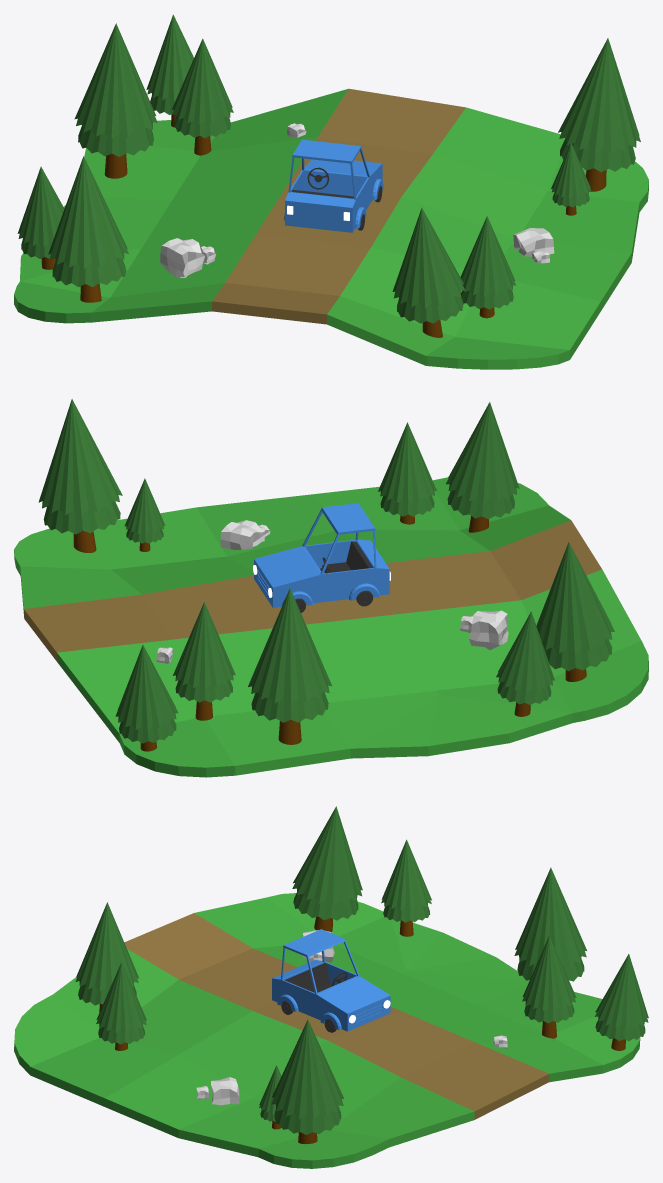
File: camino.gltf
3 views of the same model, one above another, from view 1: azimuth 30°, elevation 25°; view 2: azimuth 150°, elevation 25°; view 3: azimuth 270°, elevation 25° (orthographic). The views are drawn at different scales.
Parts seen in each view (by area): view 1: Plane, Circle.001, Circle.005, Coche, Circle.002, Circle.006, Circle, Circle.007, Circle.003, Circle.008, Circle.004, Cube.002 (+1 smaller); view 2: Plane, Coche, Circle.001, Circle.005, Circle.002, Circle.006, Circle, Circle.008, Circle.003, Circle.007, Circle.004, Cube.002 (+2 smaller); view 3: Plane, Coche, Circle.005, Circle.002, Circle.001, Circle.006, Circle, Circle.008, Circle.003, Circle.007, asiento, Cube (+1 smaller).
Boxes of the visible parts, bbox=[...] form: Plane: bbox=[14, 88, 648, 369]; Circle.001: bbox=[74, 23, 157, 178]; Circle.005: bbox=[558, 38, 640, 191]; Coche: bbox=[284, 139, 383, 232]; Circle.002: bbox=[48, 156, 128, 302]; Circle.006: bbox=[392, 207, 465, 337]; Circle: bbox=[172, 38, 233, 155]; Circle.007: bbox=[460, 216, 516, 318]; Circle.003: bbox=[17, 166, 64, 269]; Circle.008: bbox=[146, 14, 193, 127]; Circle.004: bbox=[551, 142, 591, 215]; Cube.002: bbox=[160, 238, 204, 277]; Plane: bbox=[14, 477, 648, 777]; Coche: bbox=[254, 503, 389, 607]; Circle.001: bbox=[248, 588, 331, 744]; Circle.005: bbox=[38, 399, 122, 552]; Circle.002: bbox=[536, 542, 614, 681]; Circle.006: bbox=[446, 402, 519, 532]; Circle: bbox=[173, 602, 235, 720]; Circle.008: bbox=[115, 645, 178, 751]; Circle.003: bbox=[496, 611, 554, 716]; Circle.007: bbox=[378, 422, 436, 524]; Circle.004: bbox=[124, 478, 165, 551]; Cube.002: bbox=[469, 610, 508, 650]; Plane: bbox=[14, 893, 640, 1168]; Coche: bbox=[272, 929, 390, 1031]; Circle.005: bbox=[271, 1019, 344, 1144]; Circle.002: bbox=[292, 806, 362, 931]; Circle.001: bbox=[514, 867, 586, 981]; Circle.006: bbox=[75, 902, 139, 1012]; Circle: bbox=[522, 935, 576, 1038]; Circle.008: bbox=[595, 954, 648, 1050]; Circle.003: bbox=[381, 839, 431, 936]; Circle.007: bbox=[96, 962, 146, 1050]; asiento: bbox=[285, 963, 334, 992]; Cube: bbox=[211, 1077, 239, 1105].
Size of the model in its own units: 11.68 by 3.06 by 11.97.
